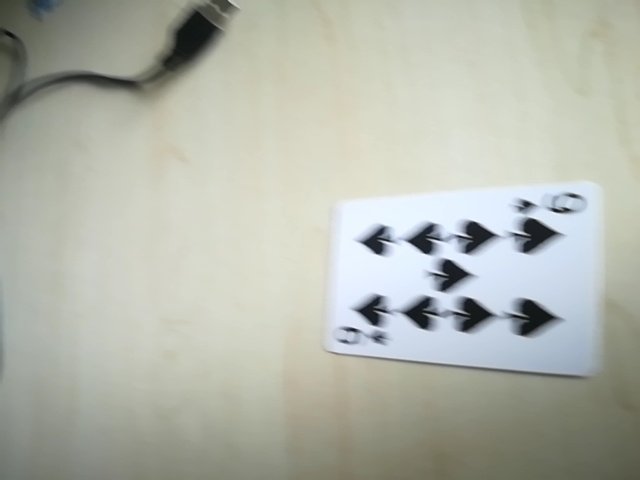ht 9: (515, 188, 586, 219), (329, 317, 387, 353)
